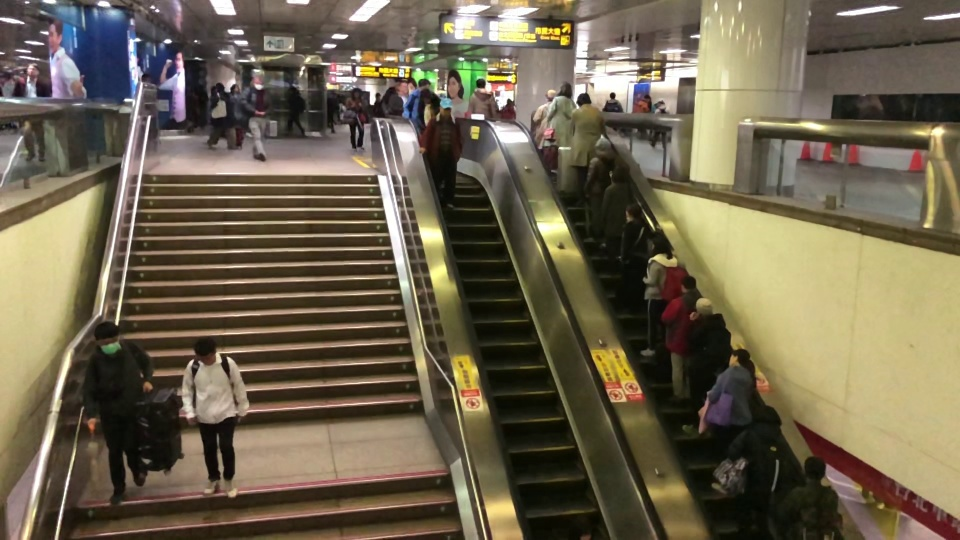person_head: (90, 320, 121, 355), (186, 335, 219, 367), (802, 454, 827, 487), (756, 406, 784, 432), (648, 229, 672, 259), (729, 345, 752, 372), (574, 91, 593, 114), (18, 66, 42, 83), (593, 137, 612, 158), (693, 294, 712, 315), (621, 204, 641, 223), (437, 96, 454, 118), (606, 167, 626, 185), (680, 275, 696, 295), (559, 81, 572, 102), (418, 78, 433, 94), (418, 88, 432, 105), (472, 77, 487, 92), (383, 87, 397, 103), (253, 80, 268, 94), (544, 88, 556, 103), (213, 83, 224, 96), (350, 87, 360, 101), (608, 90, 619, 102), (405, 80, 415, 93), (657, 97, 666, 109), (640, 93, 650, 103), (286, 80, 296, 89), (506, 98, 515, 107), (232, 84, 240, 94), (329, 90, 337, 100), (374, 92, 381, 100)
person_vbox: (81, 320, 156, 507), (182, 333, 254, 507), (718, 406, 790, 511), (678, 294, 732, 428), (771, 453, 847, 540), (690, 346, 756, 444), (634, 227, 687, 348), (416, 96, 463, 210), (5, 64, 55, 160), (662, 274, 698, 396), (564, 92, 606, 192), (581, 137, 615, 240), (546, 82, 576, 194), (611, 204, 649, 265), (600, 168, 627, 241), (248, 79, 271, 161), (530, 85, 556, 155), (465, 76, 500, 127), (227, 82, 250, 150), (402, 79, 436, 123), (283, 80, 308, 139), (345, 85, 367, 150), (206, 83, 226, 146), (633, 90, 655, 143), (653, 97, 672, 149), (417, 88, 440, 127), (601, 89, 627, 122), (380, 87, 403, 118), (326, 90, 337, 134), (502, 96, 518, 122), (370, 91, 383, 118), (405, 81, 417, 109)
